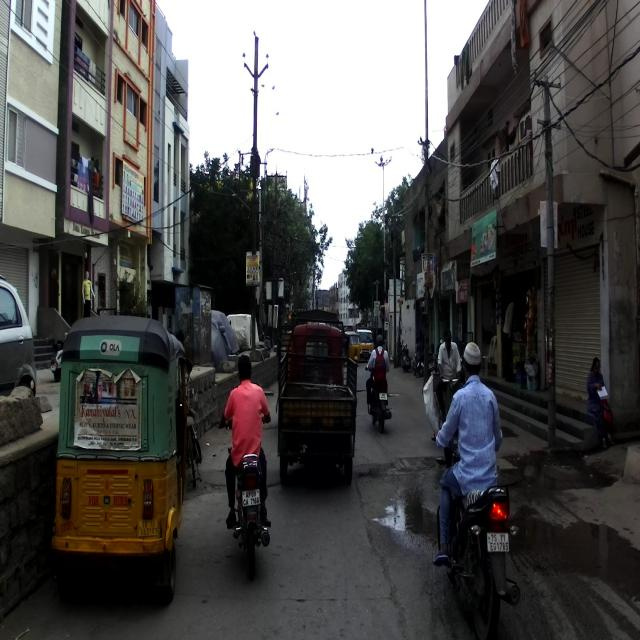autorickshaw: (50, 315, 193, 606), (275, 308, 358, 487)
motorcycle: (432, 428, 521, 639), (217, 404, 272, 578), (364, 364, 392, 432)
